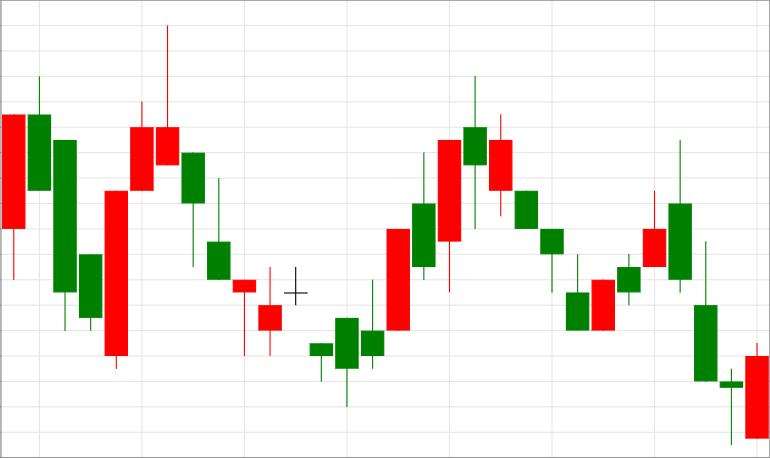bearish_engulfing_fall: (567, 141, 692, 330)
bullish_engulfing_rise: (1, 76, 129, 368)
shooting_star_fall: (80, 26, 179, 369)
